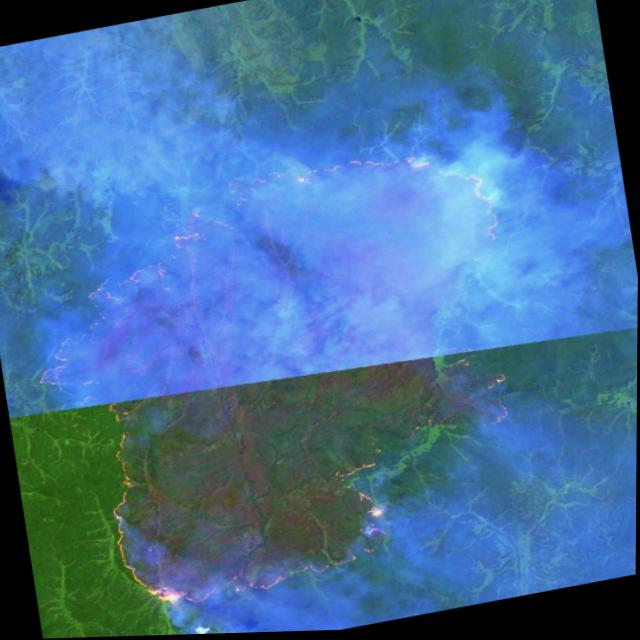fire: (9, 123, 561, 638)
